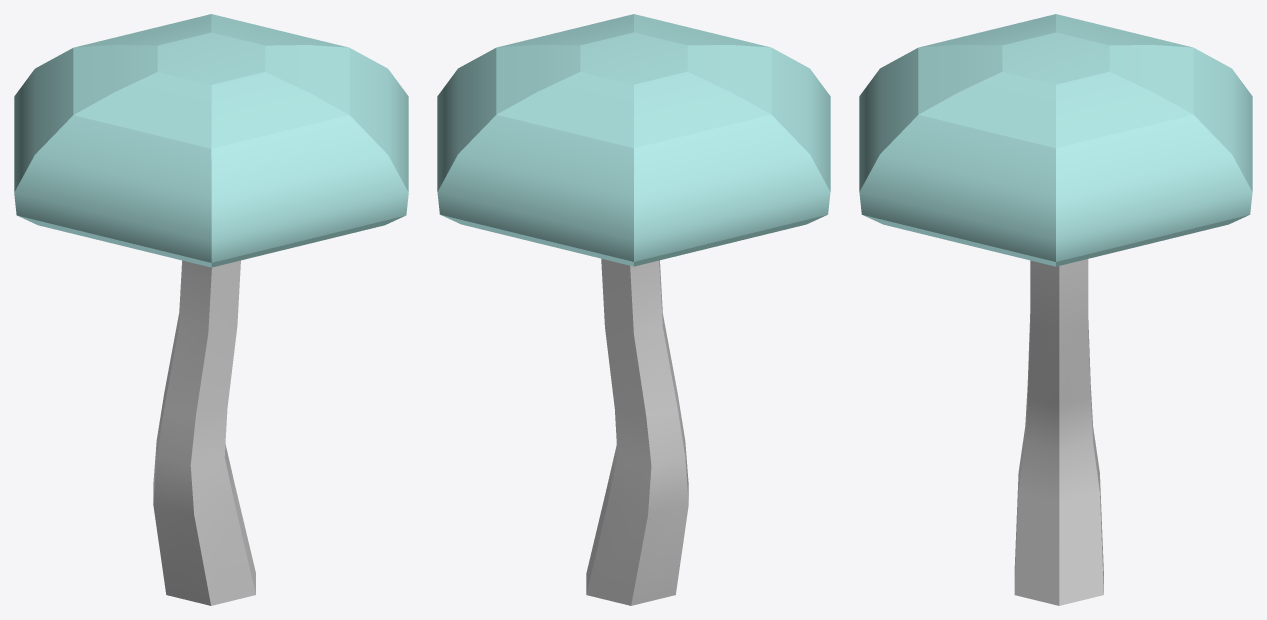
File: mushroom5.fbx
3 renders of one model, left to right at view 1: azimuth 30°, elevation 25°; view 2: azimuth 150°, elevation 25°; view 3: azimuth 270°, elevation 25°, orthographic.
Visible parts, largest first — view 1: pCylinder34, pCylinder35; view 2: pCylinder34, pCylinder35; view 3: pCylinder34, pCylinder35.
Boxes of the visible parts, x1,y1,x2,y2 form: pCylinder34: [14, 14, 408, 267]; pCylinder35: [153, 260, 255, 605]; pCylinder34: [437, 14, 830, 266]; pCylinder35: [586, 258, 688, 605]; pCylinder34: [859, 14, 1252, 266]; pCylinder35: [1014, 259, 1103, 605].
Bounding box in the file's own units: 4.97 × 6.37 × 4.3.
